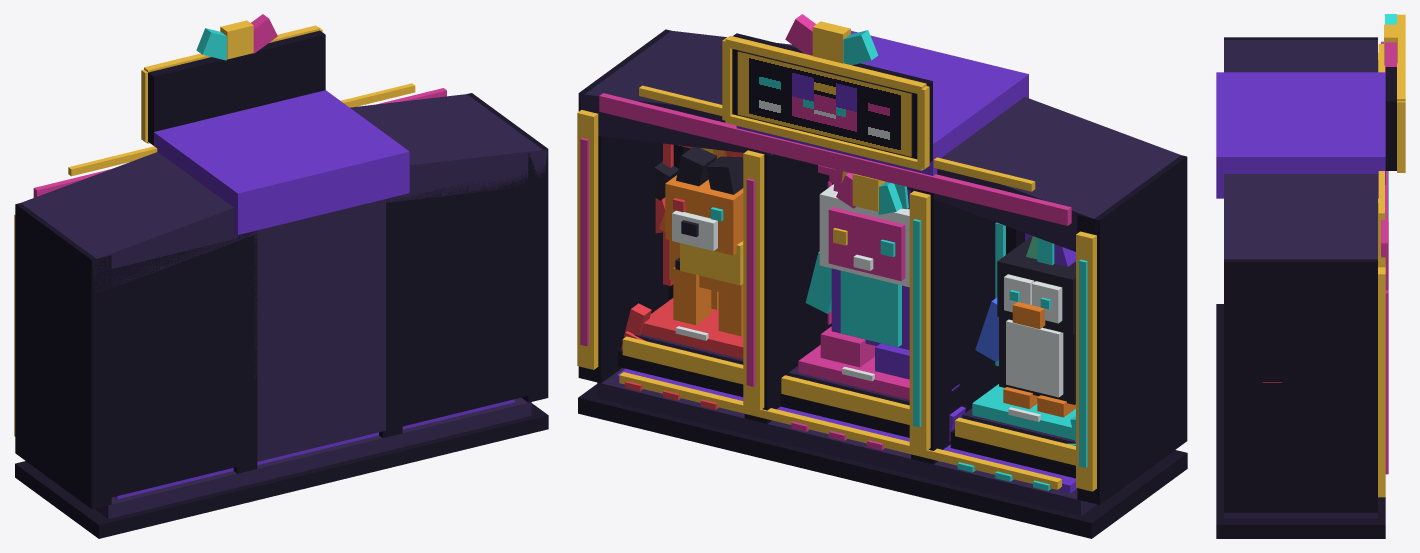
The model's file is KLC_Future_EpicMobShop.fbx.
3 views of the same model, side by side, from view 1: azimuth 30°, elevation 25°; view 2: azimuth 150°, elevation 25°; view 3: azimuth 270°, elevation 25° (orthographic). The views are drawn at different scales.
Visible parts, largest first — view 1: RearWall_Left, RearWall_Right, RearWall_Center, Canopy_Center, VaultColumn_0, Canopy_Left, Canopy_Right, IconSign_Back, Foundation_Dark, Foundation_Mid, VaultColumn_1, VaultColumn_3 (+8 smaller); view 2: VaultColumn_0, Canopy_Left, Foundation_Dark, VaultColumn_1, VaultColumn_3, VaultColumn_2, IconSign_Face, Foundation_Mid, Canopy_Right, Canopy_FrontGlow, Canopy_Center, Front_Gold_Rail (+51 smaller); view 3: VaultColumn_3, Canopy_Center, Canopy_Right, Foundation_Dark, Canopy_Left, VaultColumnGold_3, IconSign_Back, Foundation_Mid, SignFrame_Top, VaultColumnGlow_3, SignFrame_Right, Canopy_GoldEdge (+4 smaller).
Boxes of the visible parts, bbox=[...] form: RearWall_Left: bbox=[95, 238, 240, 501]; RearWall_Right: bbox=[399, 166, 544, 426]; RearWall_Center: bbox=[254, 199, 385, 461]; Canopy_Center: bbox=[154, 90, 409, 234]; VaultColumn_0: bbox=[15, 203, 111, 508]; Canopy_Left: bbox=[21, 152, 260, 292]; Canopy_Right: bbox=[350, 94, 547, 202]; IconSign_Back: bbox=[148, 30, 325, 145]; Foundation_Dark: bbox=[15, 403, 548, 538]; Foundation_Mid: bbox=[94, 397, 531, 518]; VaultColumn_1: bbox=[233, 231, 257, 473]; VaultColumn_3: bbox=[467, 93, 548, 402]; VaultColumn_0: bbox=[1077, 155, 1187, 504]; Canopy_Left: bbox=[907, 97, 1180, 251]; Foundation_Dark: bbox=[578, 384, 1187, 538]; VaultColumn_1: bbox=[911, 188, 998, 464]; VaultColumn_3: bbox=[578, 29, 670, 383]; VaultColumn_2: bbox=[744, 148, 830, 423]; IconSign_Face: bbox=[737, 50, 912, 156]; Foundation_Mid: bbox=[597, 368, 1096, 516]; Canopy_Right: bbox=[579, 30, 795, 155]; Canopy_FrontGlow: bbox=[599, 93, 1071, 225]; Canopy_Center: bbox=[736, 31, 1028, 175]; Front_Gold_Rail: bbox=[619, 372, 1061, 489]; VaultColumn_3: bbox=[1224, 259, 1377, 512]; Canopy_Center: bbox=[1216, 72, 1385, 198]; Canopy_Right: bbox=[1224, 174, 1377, 259]; Foundation_Dark: bbox=[1216, 304, 1385, 538]; Canopy_Left: bbox=[1224, 40, 1377, 72]; VaultColumnGold_3: bbox=[1378, 267, 1385, 497]; IconSign_Back: bbox=[1385, 67, 1396, 170]; Foundation_Mid: bbox=[1224, 512, 1377, 518]; SignFrame_Top: bbox=[1397, 14, 1405, 101]; VaultColumnGlow_3: bbox=[1385, 290, 1388, 474]; SignFrame_Right: bbox=[1397, 101, 1405, 172]; Canopy_GoldEdge: bbox=[1378, 44, 1384, 219].
Bounding box in the file's own units: 138058 × 114819 × 49200.
Materials: 13 (13 with a texture image).
